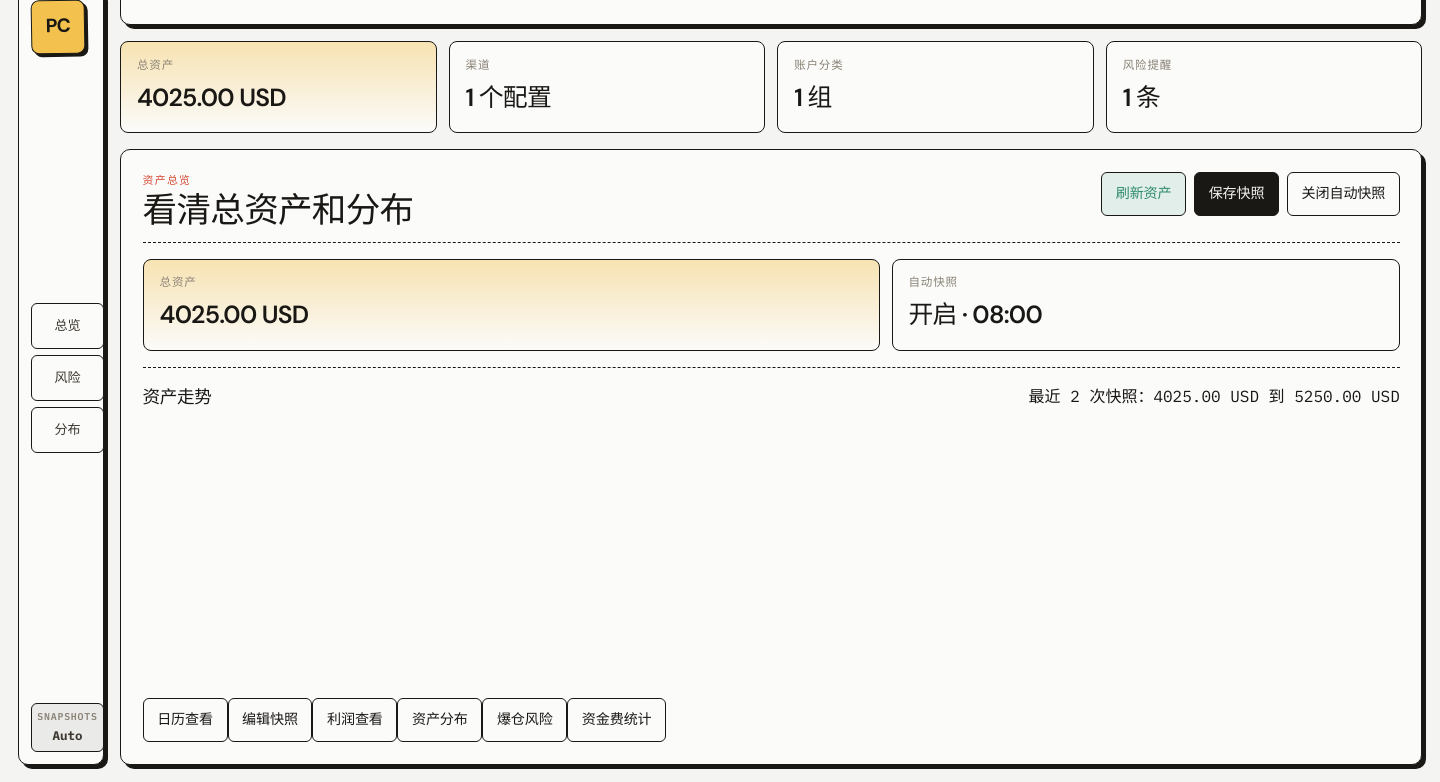
Scenario: shows infinity and no-risk copy when liquidation price is unavailable
The image size is (1440, 782).
(page scrolled)
Click the button "爆仓风险" at (525, 720), box [482,698,567,742]
(page scrolled)
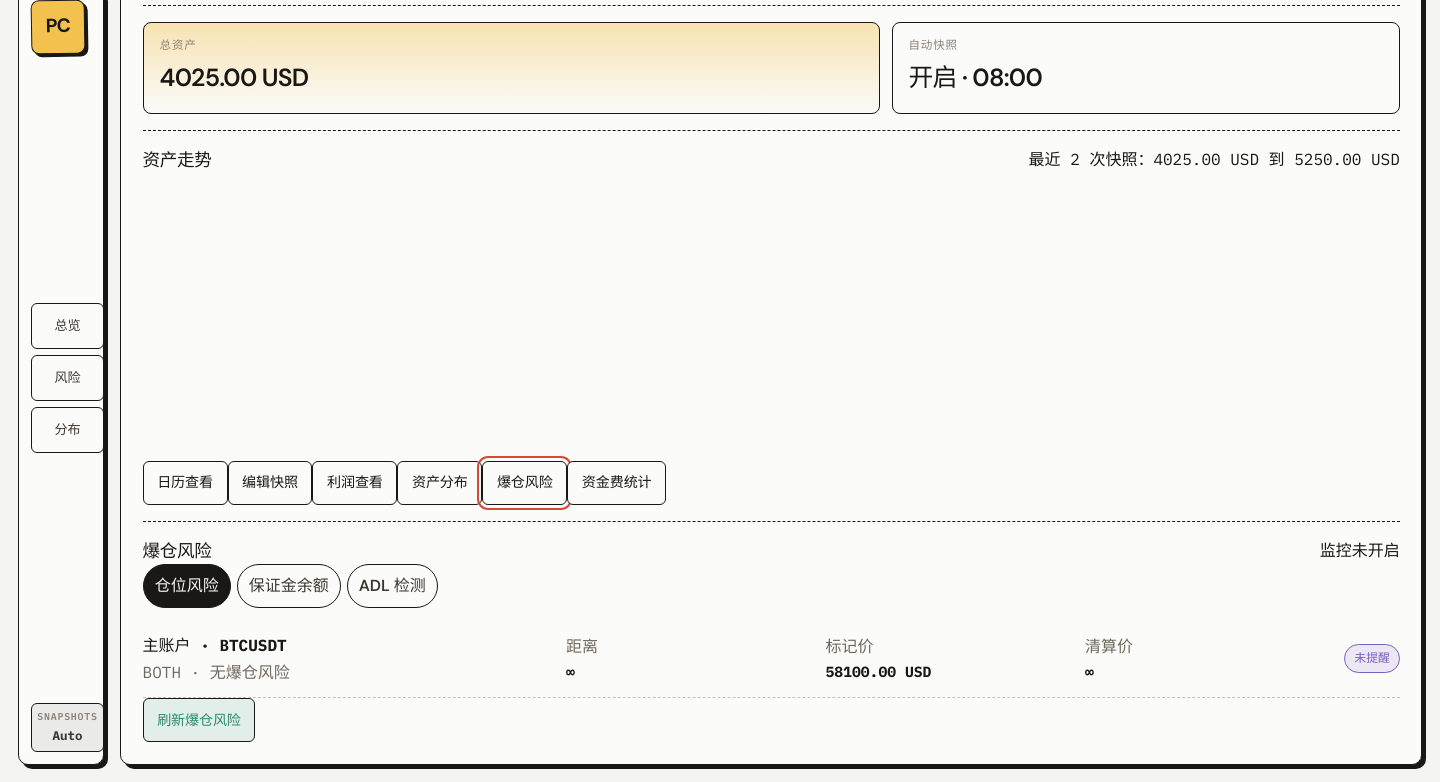
Now the text "主账户 · BTCUSDT" is shown, box [143,635,287,655]
Now the text "BOTH · 无爆仓风险" is shown, box [143,662,290,682]
Now the text "∞" is shown 2 times, box [566,662,575,680]; [1085,662,1094,680]
